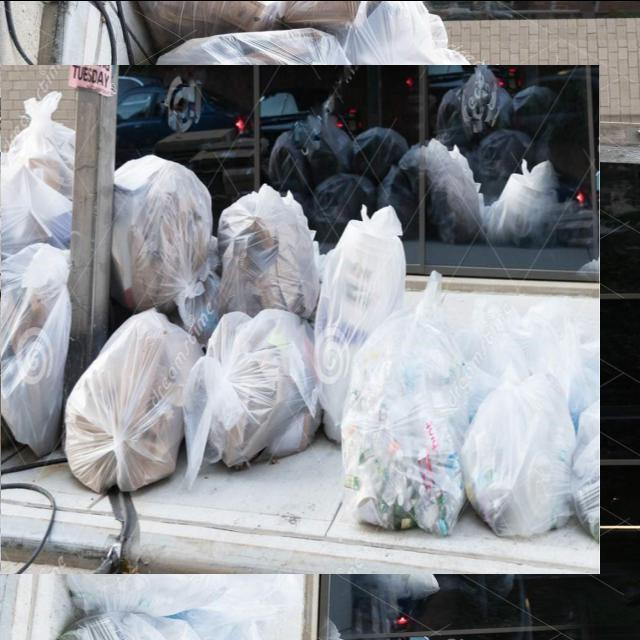Trashbag: (270, 117, 356, 184), (316, 168, 385, 234), (464, 68, 518, 140), (381, 169, 429, 241), (506, 84, 565, 136), (473, 132, 529, 184), (356, 129, 408, 179), (436, 91, 468, 154)
